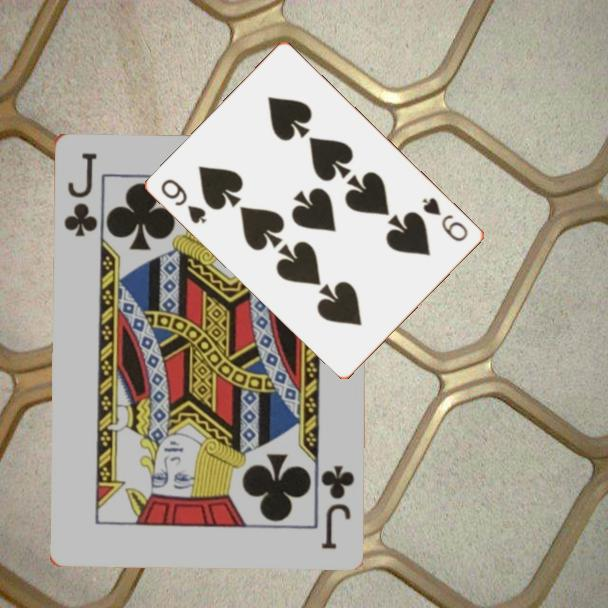c11: (316, 461, 357, 551), (60, 149, 99, 239)
s09: (158, 175, 210, 227), (419, 194, 471, 244)
